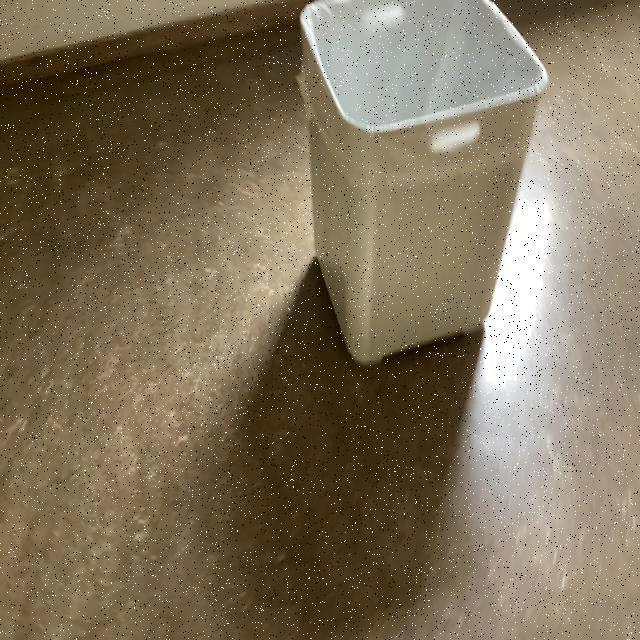garbage container: (285, 1, 577, 381)
